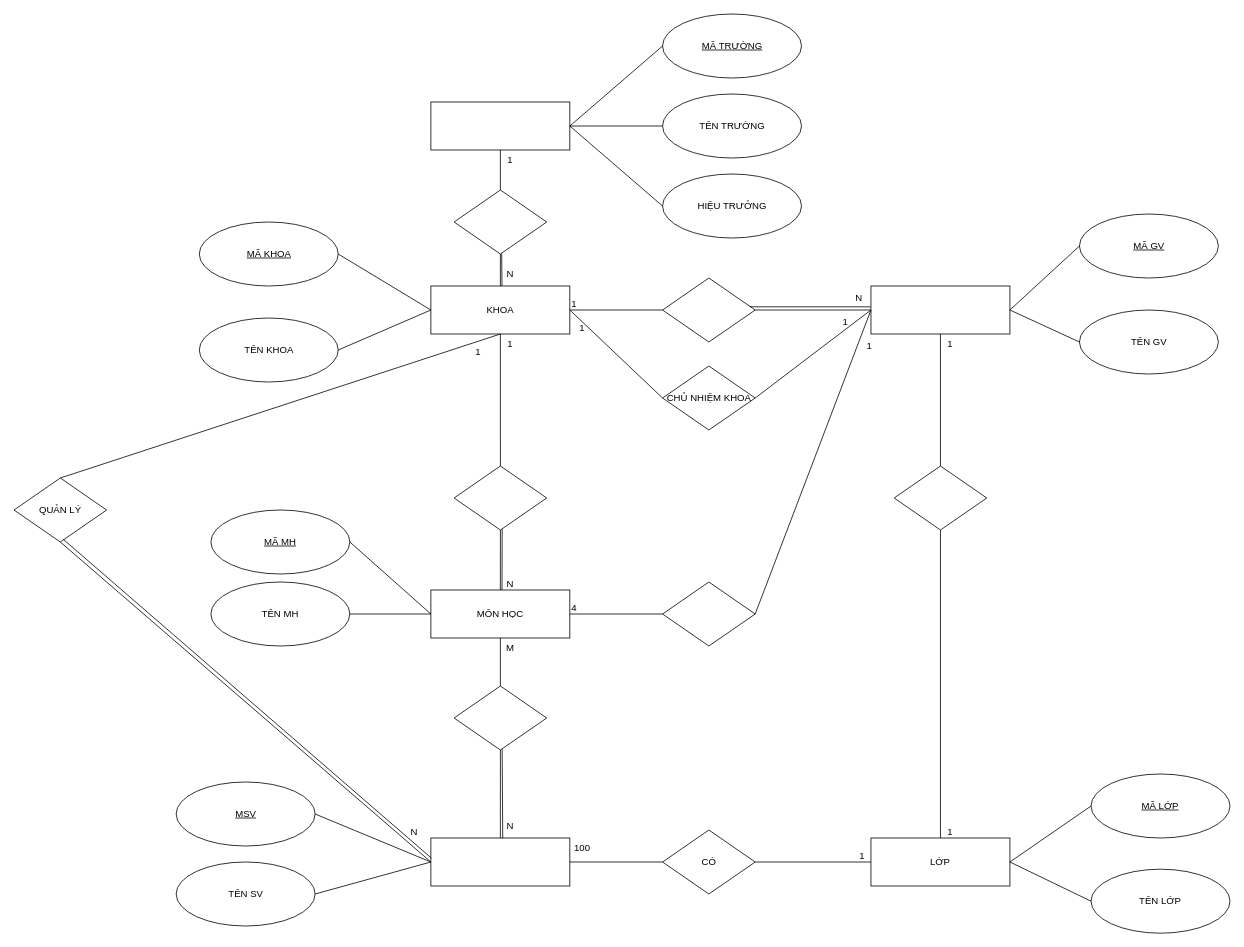
The diagram is 1244 pixels wide and 947 high, and some of its shapes have lost their labels. Here are the shapes that lost their labels. From the top down, the centre of each, then its label:
point (500, 125): TRƯỜNG
point (500, 221): THUỘC VỀ
point (708, 309): THUÊ
point (940, 309): GIÁO VIÊN
point (500, 497): CUNG CẤP
point (940, 497): CHỦ NHIỆM LỚP
point (708, 613): DẠY
point (500, 717): HỌC
point (500, 861): SINH VIÊN
